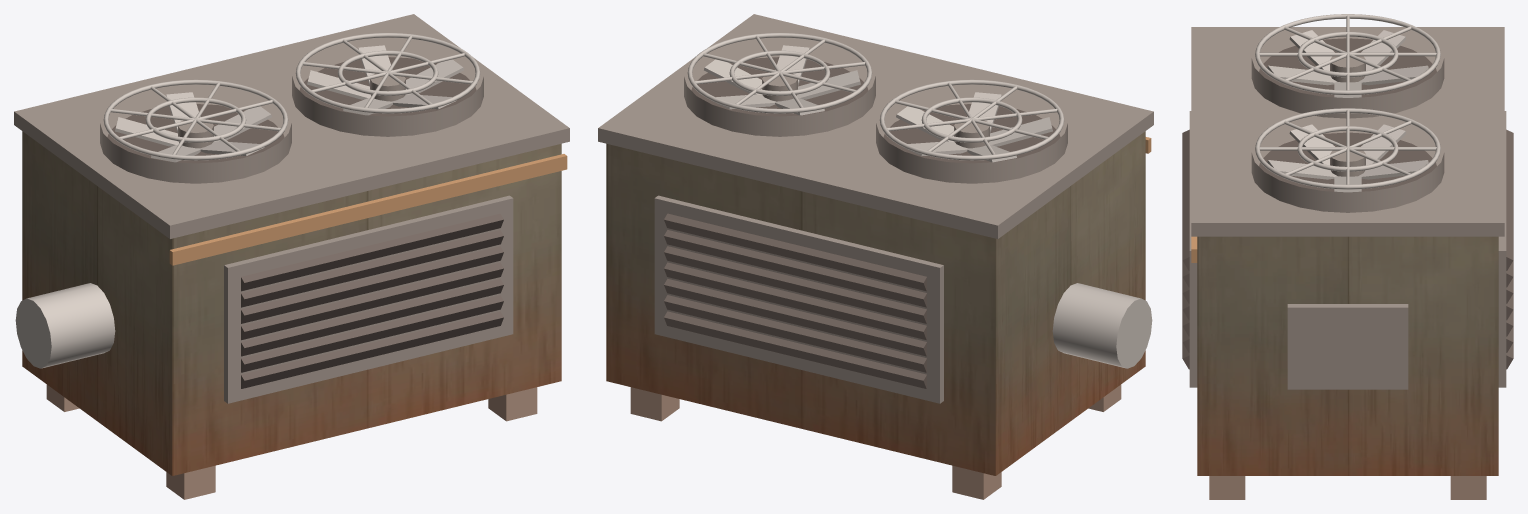
Rendered from P04_air_handling_unit.glb.
3 renders of one model, left to right at view 1: azimuth 30°, elevation 25°; view 2: azimuth 150°, elevation 25°; view 3: azimuth 270°, elevation 25°, orthographic.
Visible parts, largest first — view 1: housing, top_rim, fan_blade, foot; view 2: housing, top_rim, fan_blade, foot; view 3: housing, top_rim, fan_blade, foot.
Part boxes in pixels (bbox=[...]): housing: bbox=[22, 57, 567, 475]; top_rim: bbox=[14, 14, 569, 403]; fan_blade: bbox=[15, 33, 480, 368]; foot: bbox=[46, 384, 537, 499]; housing: bbox=[606, 57, 1151, 475]; top_rim: bbox=[598, 14, 1153, 403]; fan_blade: bbox=[687, 33, 1152, 368]; foot: bbox=[630, 384, 1121, 499]; housing: bbox=[1182, 38, 1513, 475]; top_rim: bbox=[1189, 27, 1506, 389]; fan_blade: bbox=[1255, 14, 1440, 192]; foot: bbox=[1209, 476, 1486, 499].
Bounding box in the file's own units: 1.78 × 1.15 × 1.1.
5 materials, 1 textured.
